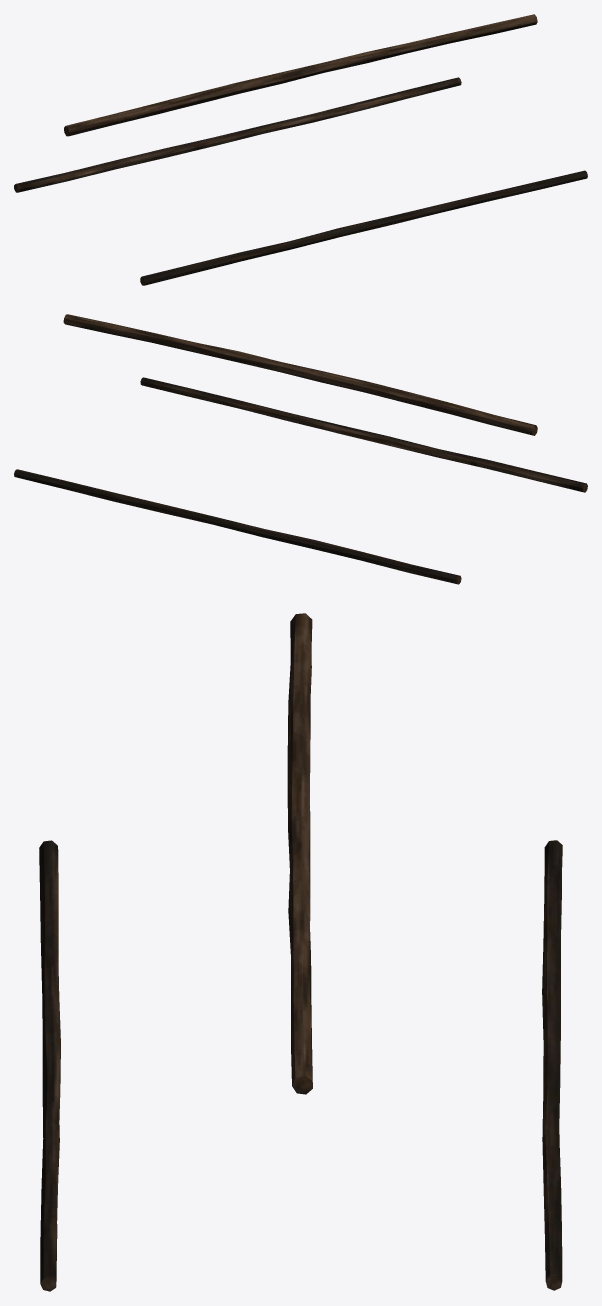
Rendered from longhouse_ridge.gltf.
3 views of the same model, one above another, from view 1: azimuth 30°, elevation 25°; view 2: azimuth 150°, elevation 25°; view 3: azimuth 270°, elevation 25° (orthographic). The views are drawn at different scales.
Visible parts, largest first — view 1: longhouse_ridge; view 2: longhouse_ridge; view 3: longhouse_ridge.
Part boxes in pixels (box(x1,y1,x2,y2)): longhouse_ridge: box(14, 14, 587, 285); longhouse_ridge: box(14, 314, 587, 584); longhouse_ridge: box(39, 613, 562, 1291).
Bounding box in the file's own units: 7.4 × 1.8 × 3.58.
2 materials, 2 textured.
